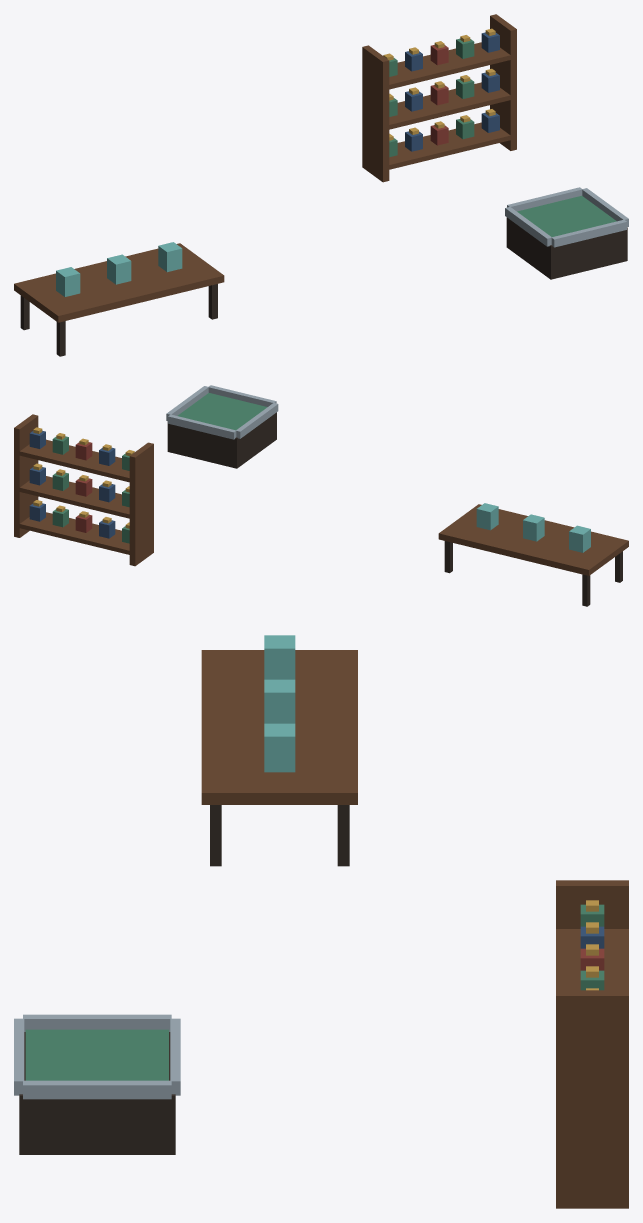
File: alchemy_study.glb
The picture shows the model from 3 angles, top to bottom: view 1: azimuth 30°, elevation 25°; view 2: azimuth 150°, elevation 25°; view 3: azimuth 270°, elevation 25°; orthographic projection. The views are drawn at different scales.
Visible parts, largest first — view 1: alchemy_study; view 2: alchemy_study; view 3: alchemy_study.
Part boxes in pixels (left/top/right/bottom): alchemy_study: left=14, top=14, right=628, bottom=356; alchemy_study: left=14, top=385, right=628, bottom=606; alchemy_study: left=14, top=635, right=628, bottom=1208.
Bounding box in the file's own units: 43.75 × 9 × 23.6.
